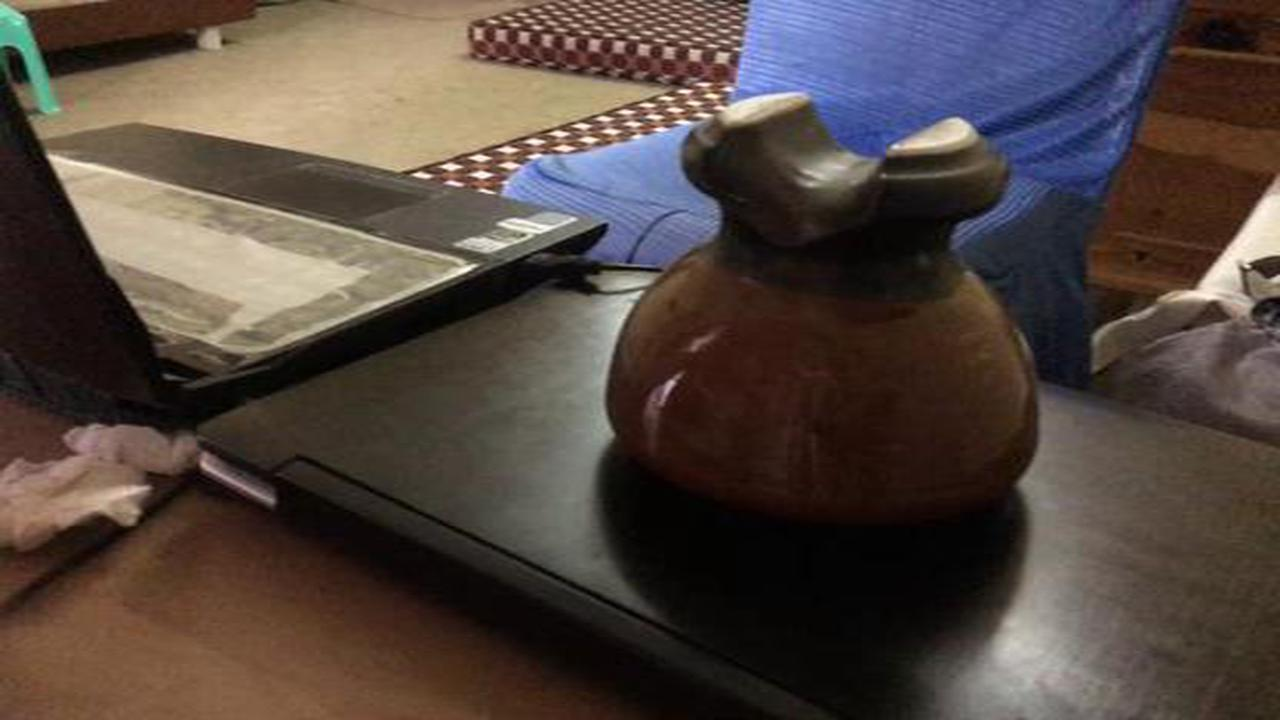insulator_pin: (585, 77, 1059, 542)
